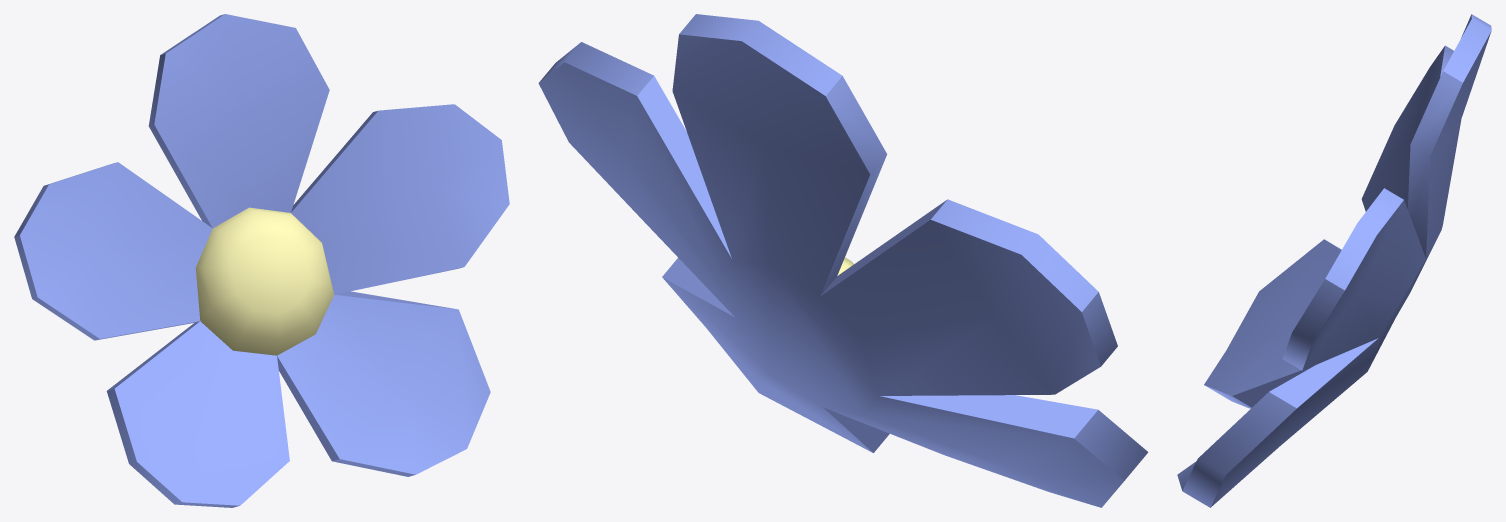
File: Flower2.fbx
3 renders of one model, left to right at view 1: azimuth 30°, elevation 25°; view 2: azimuth 150°, elevation 25°; view 3: azimuth 270°, elevation 25°, orthographic. The views are drawn at different scales.
Visible parts, largest first — view 1: Flower2; view 2: Flower2; view 3: Flower2.
Part boxes in pixels (x1,y1,x2,y2): Flower2: [14, 14, 509, 507]; Flower2: [538, 14, 1148, 507]; Flower2: [1177, 14, 1491, 507].
Size of the model in its own units: 33.31 by 28.4 by 18.49.
1 material, 1 textured.
